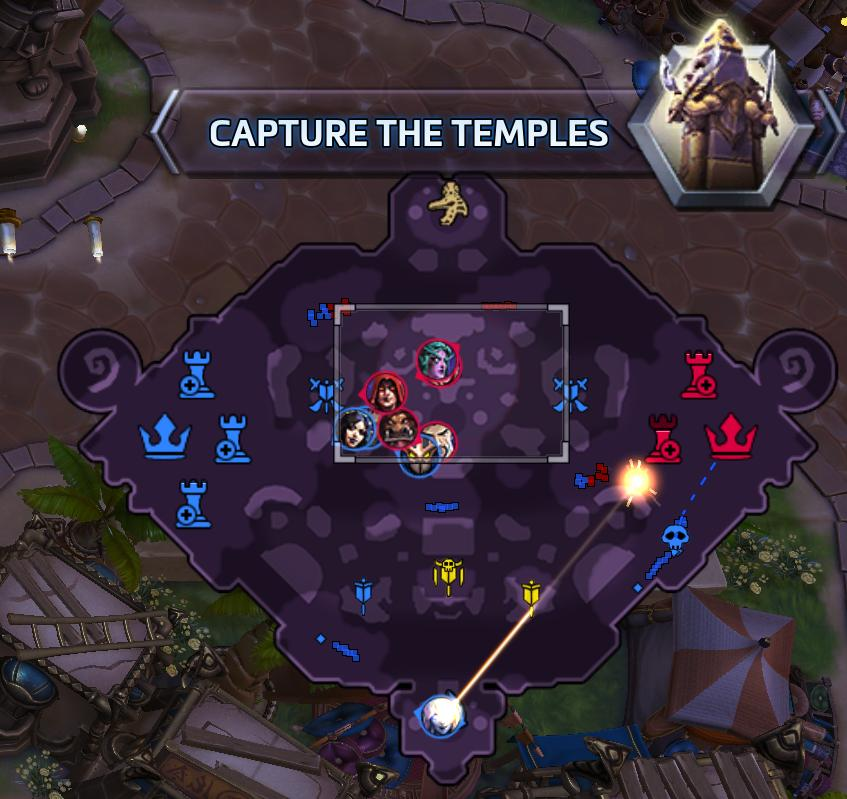blue player: (417, 693, 469, 737), (335, 406, 377, 451), (398, 434, 441, 476)
blue tower: (173, 477, 212, 528), (214, 412, 252, 464), (178, 347, 215, 399)
red nexus: (703, 412, 759, 460)
red player: (415, 338, 460, 388), (363, 371, 406, 415), (375, 407, 420, 449), (417, 422, 456, 462), (425, 347, 454, 379)
red tower: (642, 412, 681, 464), (680, 349, 717, 399)
